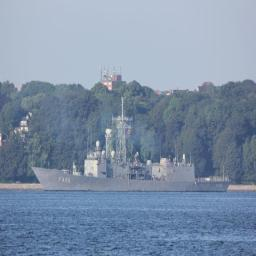Fragata: (30, 97, 236, 195)
